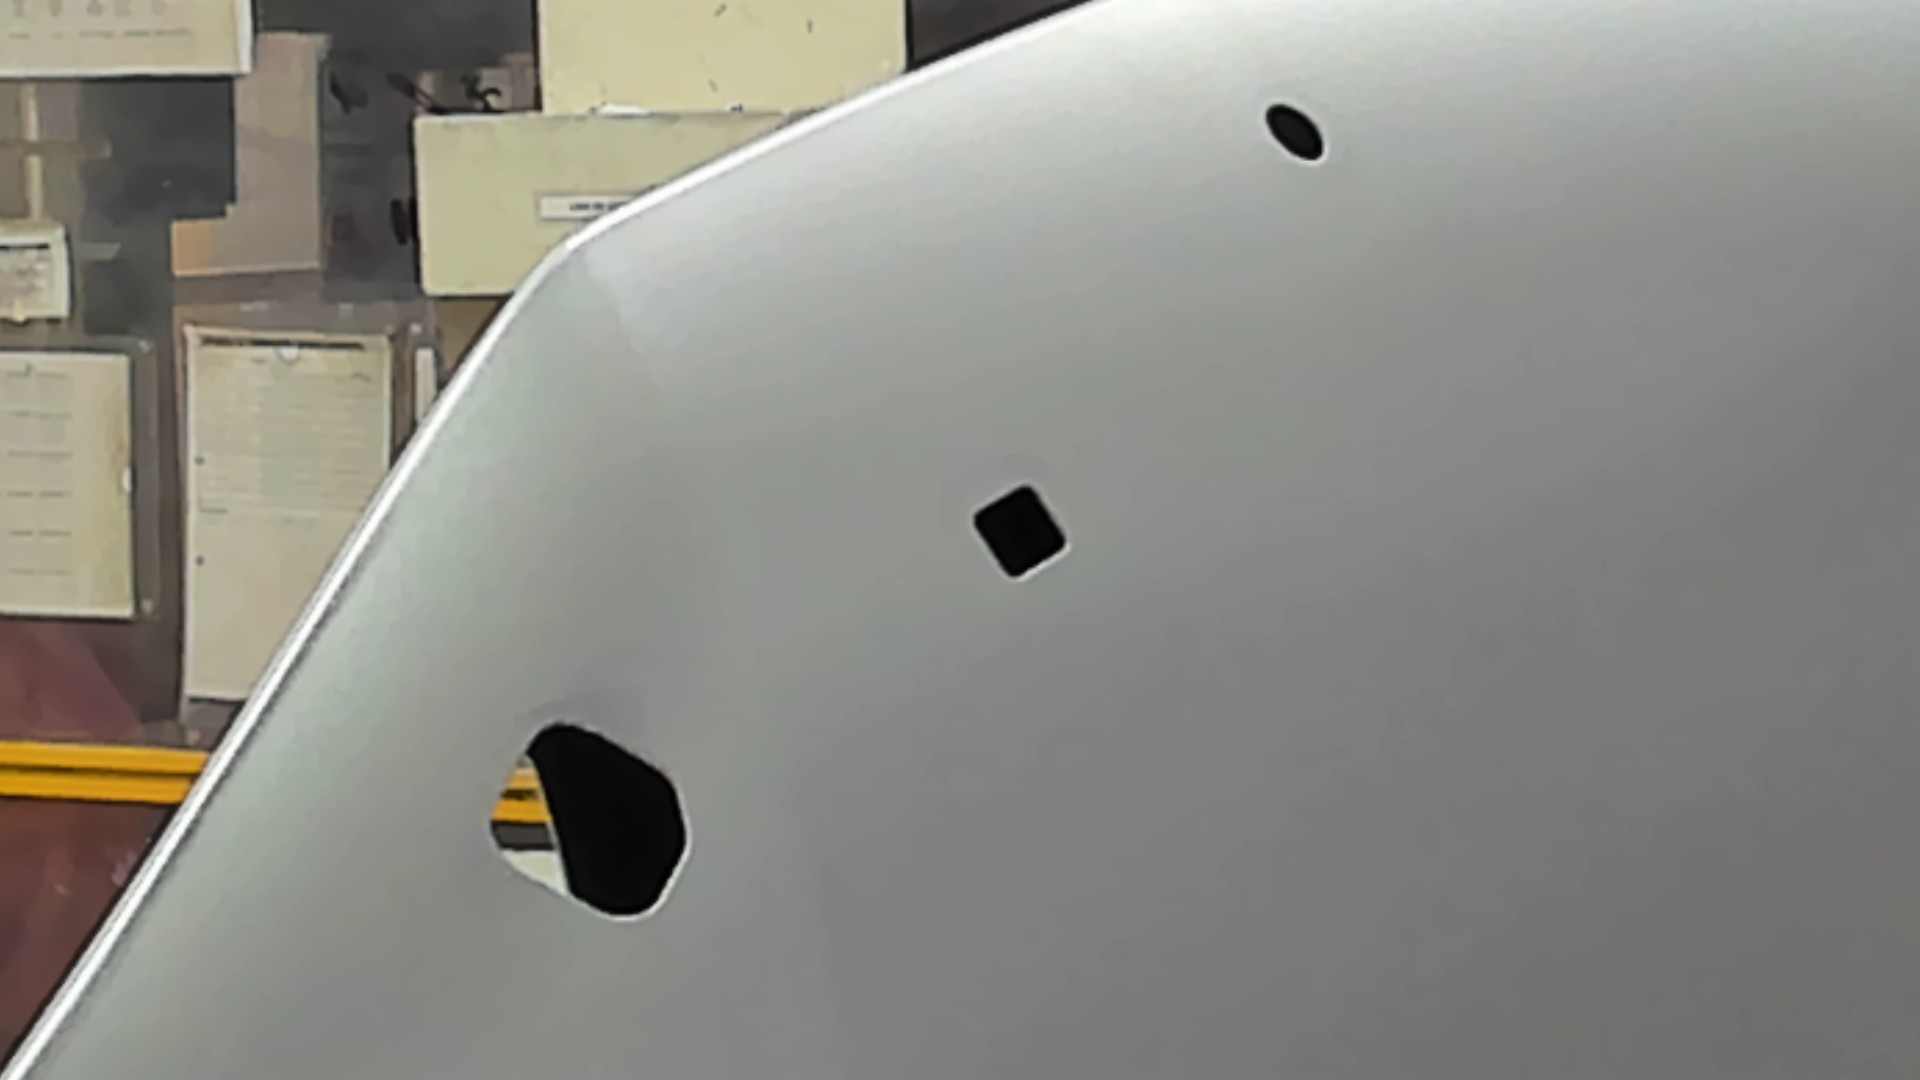chico: (1262, 98, 1331, 162)
grande: (487, 717, 698, 924)
mediano: (967, 483, 1072, 579)
